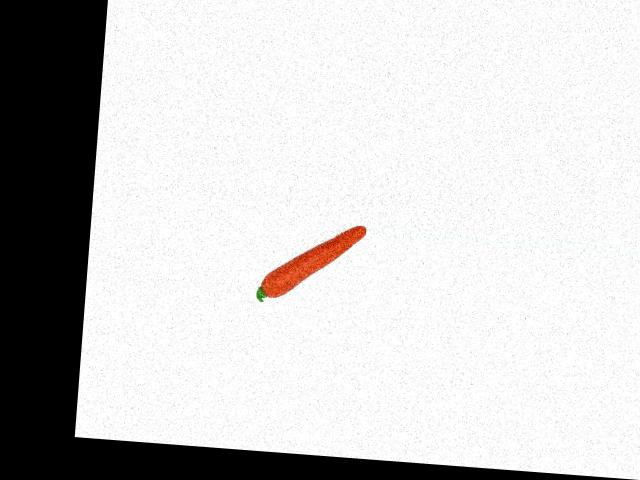carrot: (260, 213, 368, 308)
